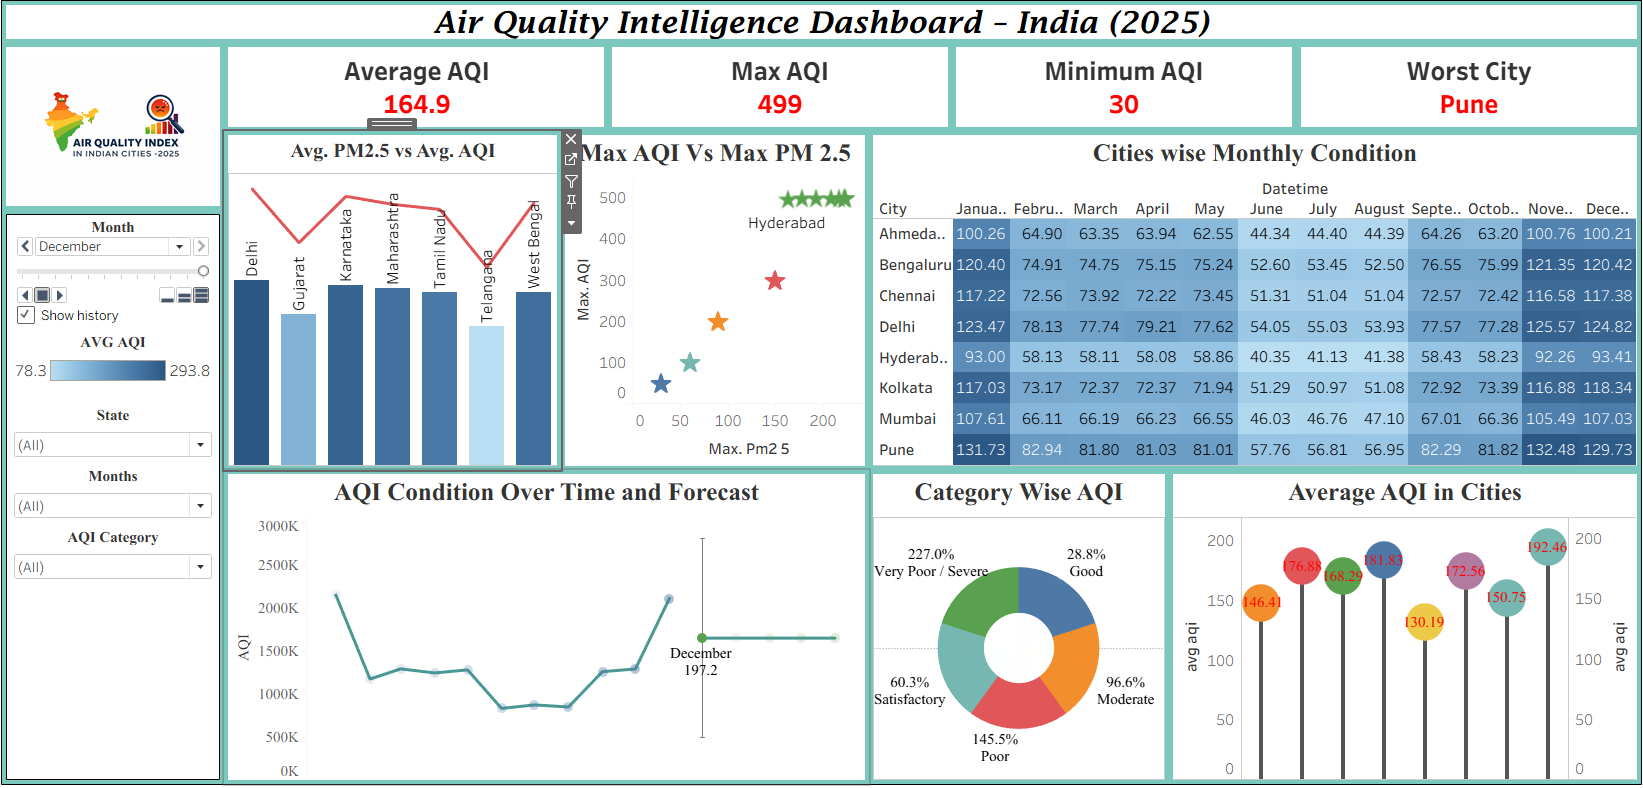

The page's visual inventory and layout, read from the dashboard file:
{"tool":"tableau","page":{"name":"Dashboard 1","canvas":[1000,1000],"units":"permille","ordinal":0},"visuals":[{"type":"title","box":[5.4,11.2,989.1,52.4]},{"type":"image","param":"Image/ChatGPT Image Apr 19, 2026, 03_58_22 PM.png","box":[5.4,63.7,133.8,209.1]},{"type":"worksheet","title":"Sheet 9","mark":"Automatic","box":[139.2,63.7,232.1,109.9]},{"type":"worksheet","title":"Sheet 9 (2)","mark":"Automatic","box":[371.3,63.7,207.7,109.9]},{"type":"worksheet","title":"Sheet 9 (4)","mark":"Text","box":[579,63.7,207.8,109.9]},{"type":"worksheet","title":"Sheet 9 (3)","mark":"Text","box":[786.8,63.7,207.8,109.9]},{"type":"worksheet","title":"Sheet 7","mark":"Automatic","rows":["PM2_5","AQI"],"cols":["state"],"box":[139.2,173.6,203.7,423.6]},{"type":"worksheet","title":"scatters","mark":"Automatic","rows":["AQI"],"cols":["PM2_5"],"box":[343,173.6,185.7,423.6]},{"type":"worksheet","title":"Sheet 8","mark":"Square","rows":["city"],"cols":["datetime"],"box":[528.6,173.6,465.9,423.6]},{"type":"currpage","title":"motion","box":[8.4,279,127.8,143.6]},{"type":"legend","title":"Sheet 8","param":"[federated.19svdyv0bliaqp168vqvb1hg3psa].[usr:Calculation_7468094104119091200:qk","box":[8.4,422.6,127.8,91.1]},{"type":"filter","title":"Sheet 7","param":"[federated.19svdyv0bliaqp168vqvb1hg3psa].[none:state:nk]","box":[8.4,513.7,127.8,76.2]},{"type":"filter","title":"Sheet 7","param":"[federated.19svdyv0bliaqp168vqvb1hg3psa].[mn:datetime:ok]","box":[8.4,589.9,127.8,76.2]},{"type":"worksheet","title":"motion","mark":"Circle","rows":["AQI"],"cols":["datetime"],"box":[139.2,597.2,389.4,391.6]},{"type":"worksheet","title":"Sheet 11","mark":"Automatic","rows":["Calculation_8352207006634676227","Calculation_8352207006634688517"],"box":[528.6,597.2,180.8,391.6]},{"type":"worksheet","title":"lollipop","mark":"Bar","rows":["Calculation_7468094104119091200","Calculation_7468094104119091200"],"cols":["city"],"box":[709.5,597.2,285.1,391.6]},{"type":"filter","title":"Sheet 7","param":"[federated.19svdyv0bliaqp168vqvb1hg3psa].[none:AQI_Category:nk]","box":[8.4,666,127.8,76.2]}]}

Visuals, with their boxes on the dashboard's canvas, which has no fixed pixel size, in thousandths of its width and height (x1, y1, x2, y2). These are canvas units, not pixel positions in the 1643x788 screenshot, which may show the page scaled, cropped or inside an application window:
title: detection(5, 11, 994, 64)
image: detection(5, 64, 139, 273)
"Sheet 9" worksheet: detection(139, 64, 371, 174)
"Sheet 9 (2)" worksheet: detection(371, 64, 579, 174)
"Sheet 9 (4)" worksheet (Text marks): detection(579, 64, 787, 174)
"Sheet 9 (3)" worksheet (Text marks): detection(787, 64, 995, 174)
"Sheet 7" worksheet: detection(139, 174, 343, 597)
"scatters" worksheet: detection(343, 174, 529, 597)
"Sheet 8" worksheet (Square marks): detection(529, 174, 994, 597)
"motion" currpage: detection(8, 279, 136, 423)
"Sheet 8" legend: detection(8, 423, 136, 514)
"Sheet 7" filter: detection(8, 514, 136, 590)
"Sheet 7" filter: detection(8, 590, 136, 666)
"motion" worksheet (Circle marks): detection(139, 597, 529, 989)
"Sheet 11" worksheet: detection(529, 597, 709, 989)
"lollipop" worksheet (Bar marks): detection(710, 597, 995, 989)
"Sheet 7" filter: detection(8, 666, 136, 742)
